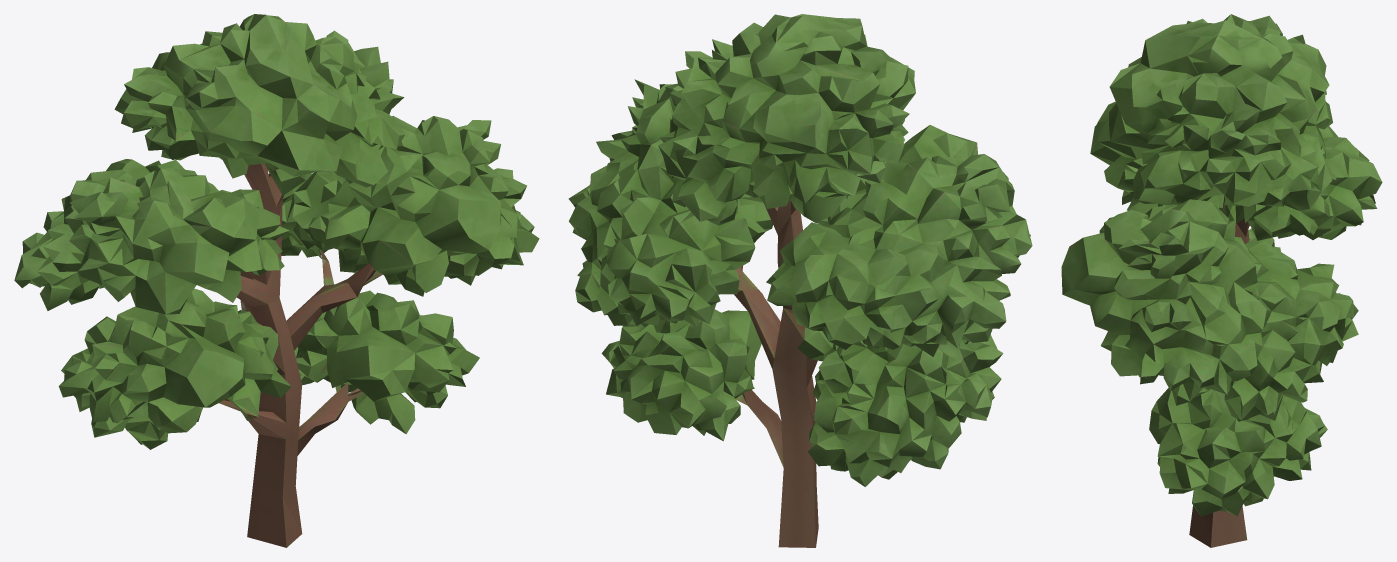
The model's file is broadleafTree.glb.
The picture shows the model from 3 angles, left to right: view 1: azimuth 30°, elevation 25°; view 2: azimuth 150°, elevation 25°; view 3: azimuth 270°, elevation 25°; orthographic projection. The views are drawn at different scales.
Visible parts, largest first — view 1: Mesh_0; view 2: Mesh_0; view 3: Mesh_0.
Part boxes in pixels (<box>): Mesh_0: <box>14,14,539,547</box>; Mesh_0: <box>568,14,1032,547</box>; Mesh_0: <box>1061,14,1382,547</box>.
Bounding box in the file's own units: 1.8 × 1.91 × 1.08.
1 material, 1 textured.
